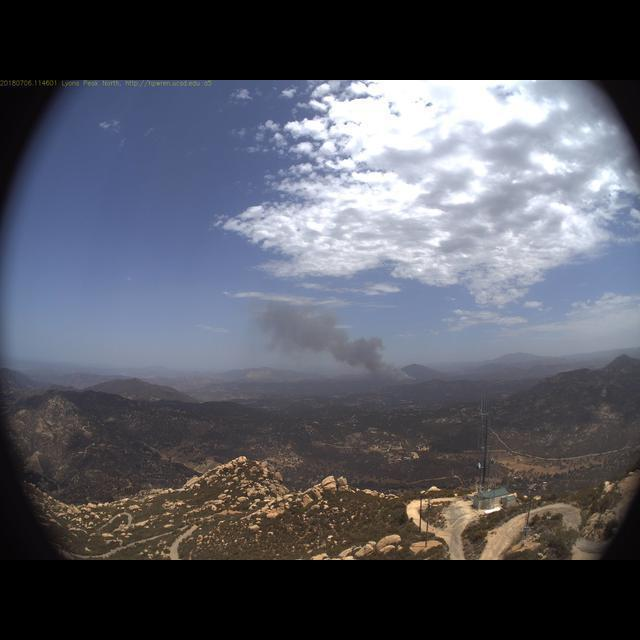Smoke: (247, 293, 418, 393)
